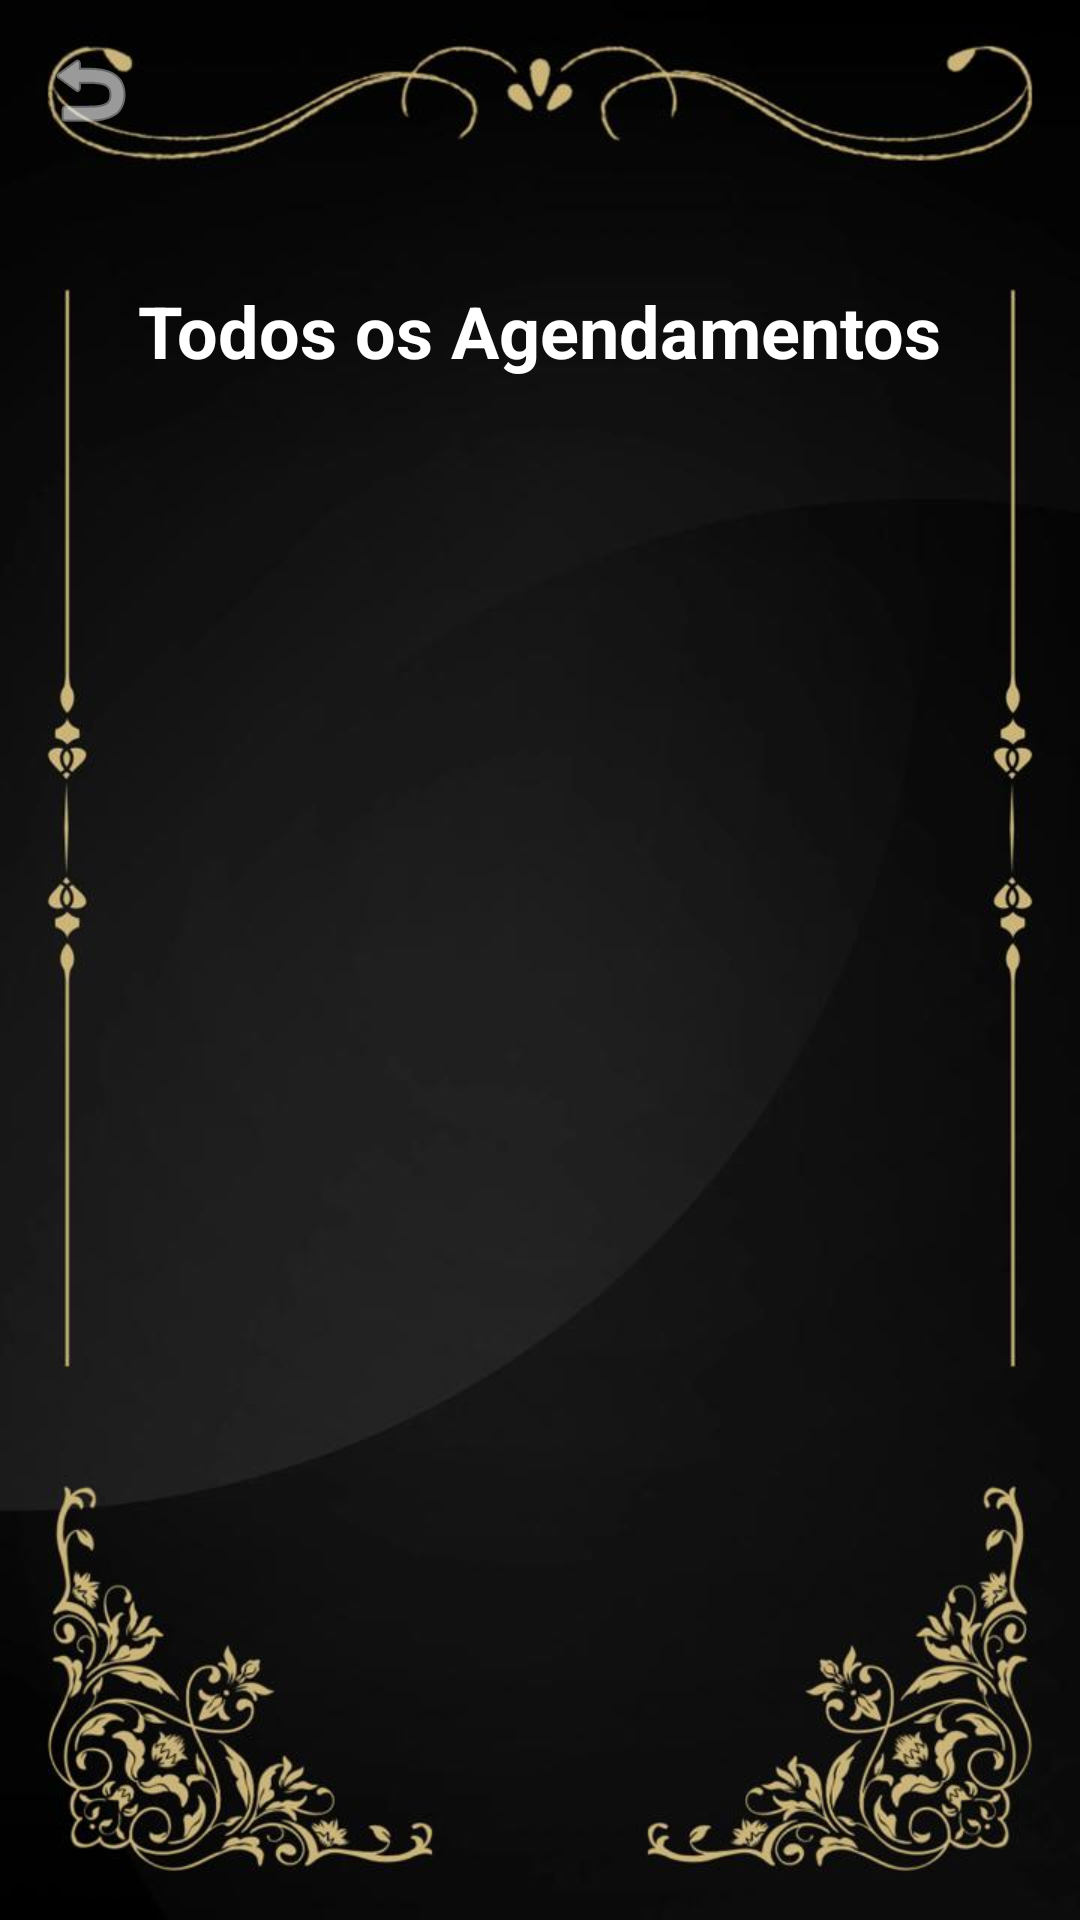

Point at icon controls on the screen. Image size 1080px x 1920px, points as [x,y].
Voltar: [95,95]
